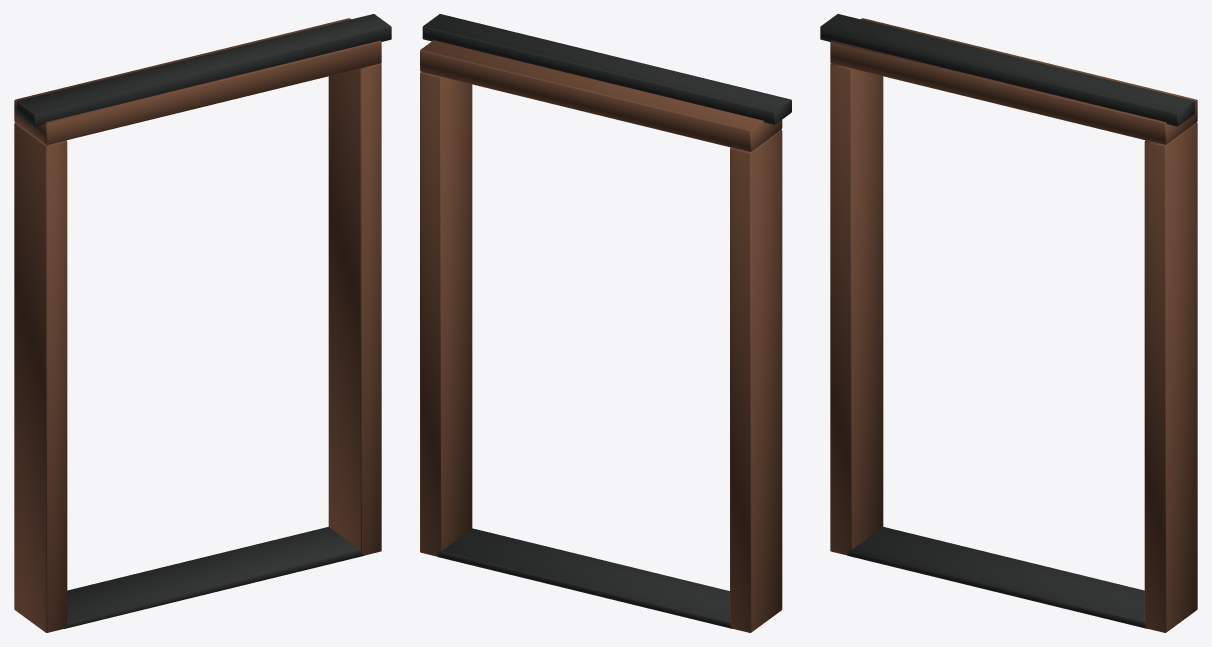
File: shed_door.glb
3 renders of one model, left to right at view 1: azimuth 30°, elevation 25°; view 2: azimuth 150°, elevation 25°; view 3: azimuth 330°, elevation 25°, orthographic.
Parts seen in each view (by area): view 1: MESH_DoorFrame; view 2: MESH_DoorFrame; view 3: MESH_DoorFrame.
Part boxes in pixels (bbox=[...]): MESH_DoorFrame: bbox=[14, 14, 391, 632]; MESH_DoorFrame: bbox=[420, 14, 791, 632]; MESH_DoorFrame: bbox=[820, 14, 1197, 632].
Size of the model in its own units: 1.65 by 2.3 by 0.26.
